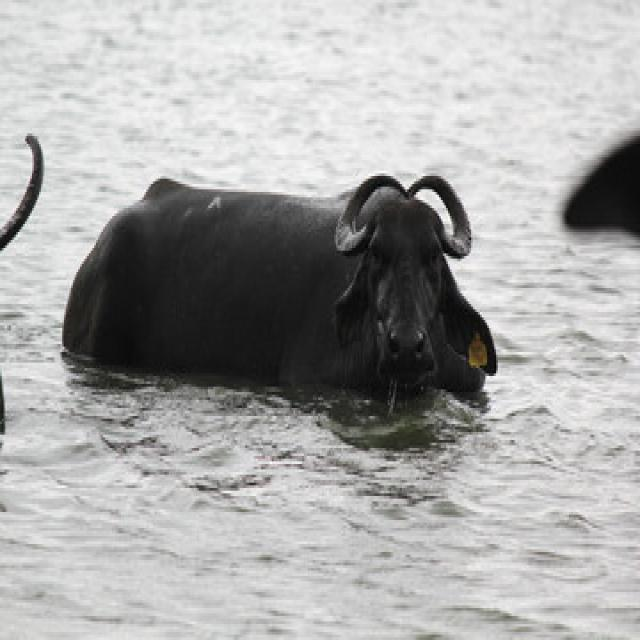Buffalo: (60, 170, 499, 405)
